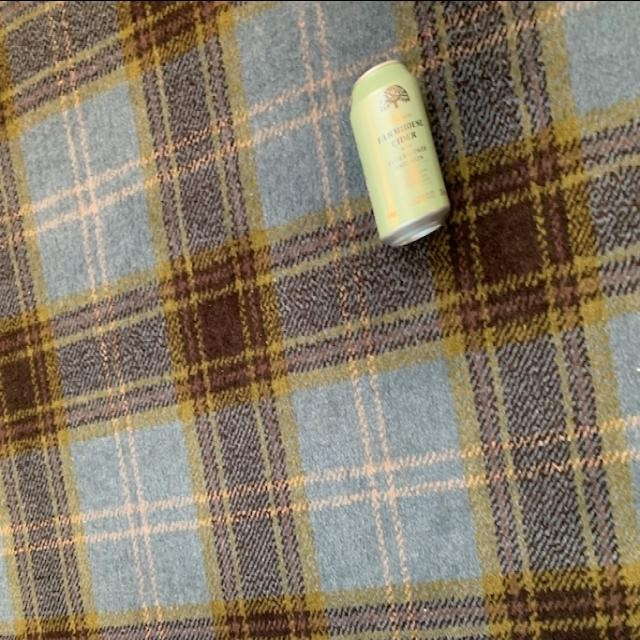litter: (348, 54, 452, 252)
